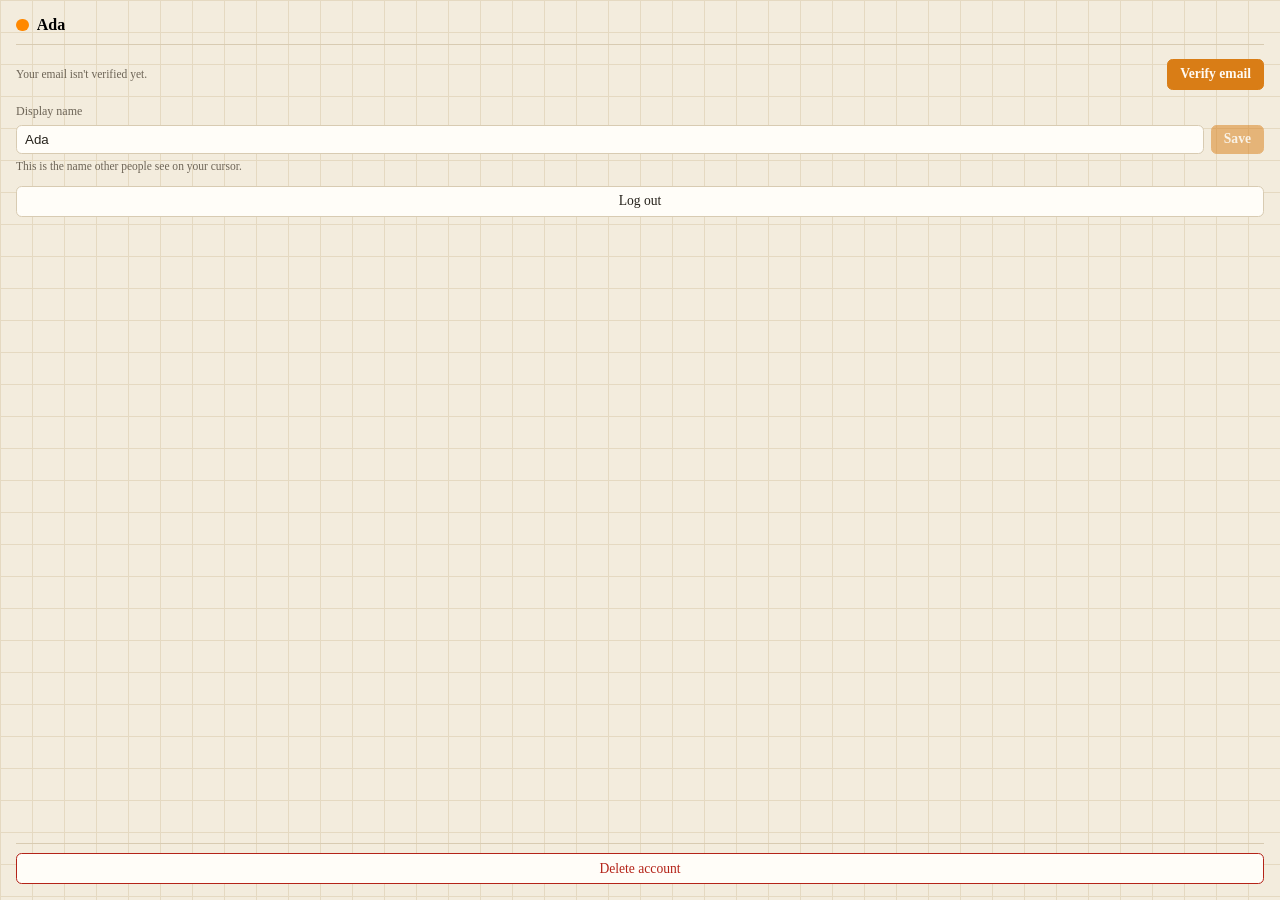
Scenario: AccountTab email verification › offers a verify button when unverified and reports it was sent
The image size is (1280, 900).
Click the button "Verify email": {"x": 1216, "y": 74} [1167,59,1264,90]
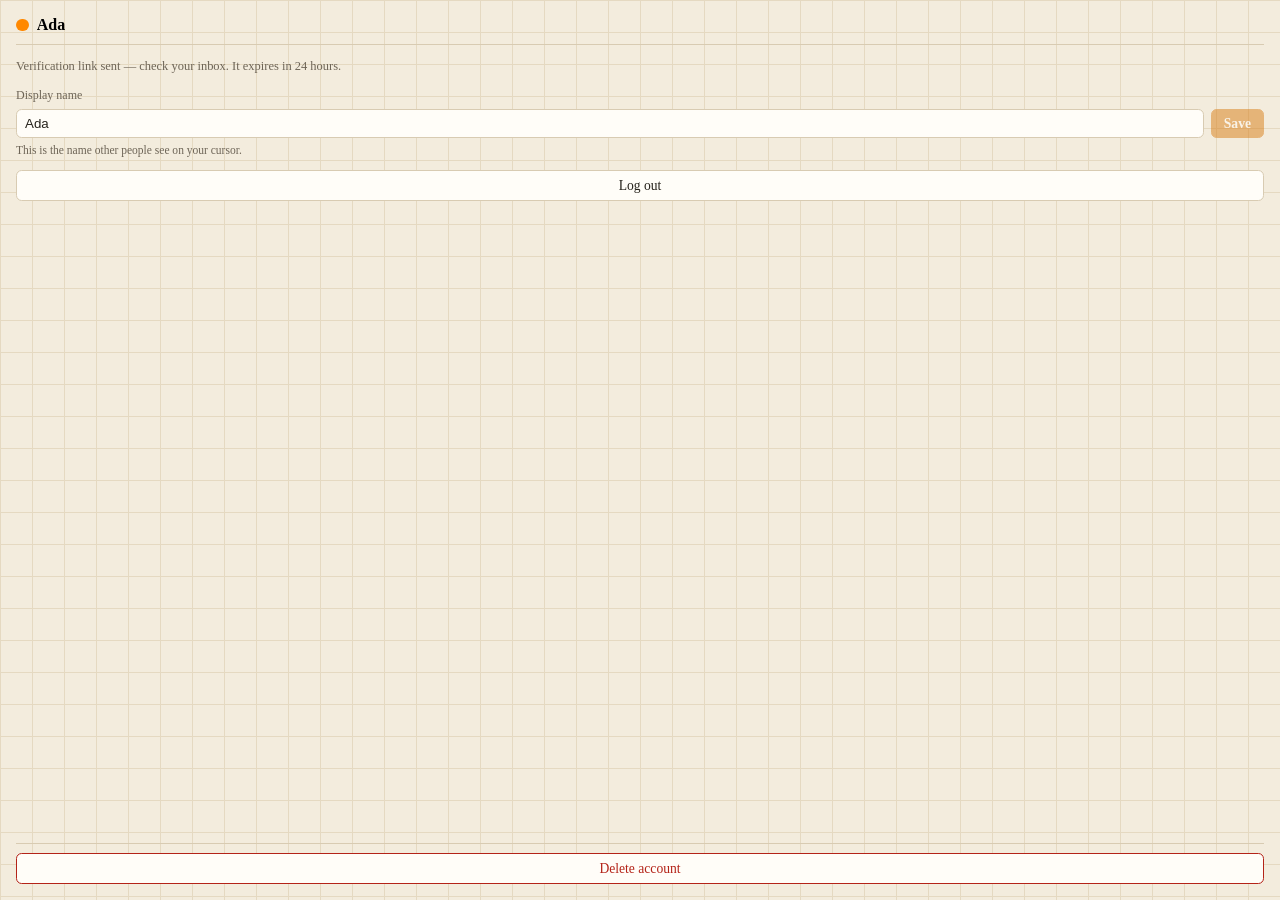
Result: the message shows "Verification link sent" at [16,59,341,73]
